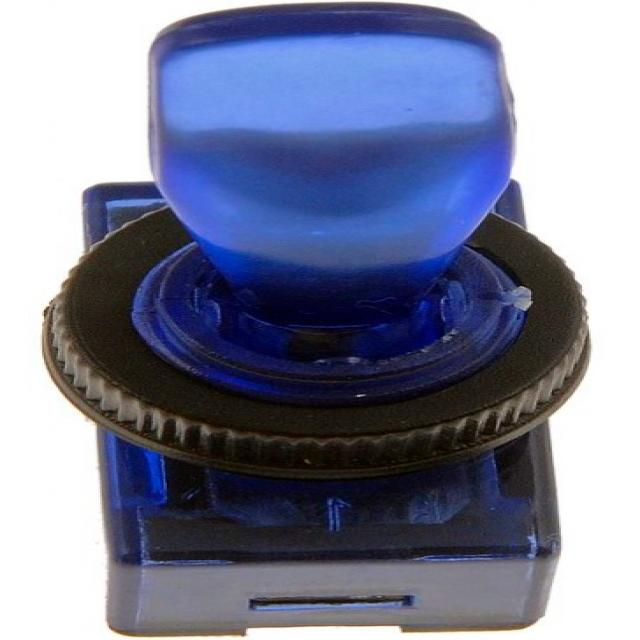toggle switch: (46, 4, 591, 481)
